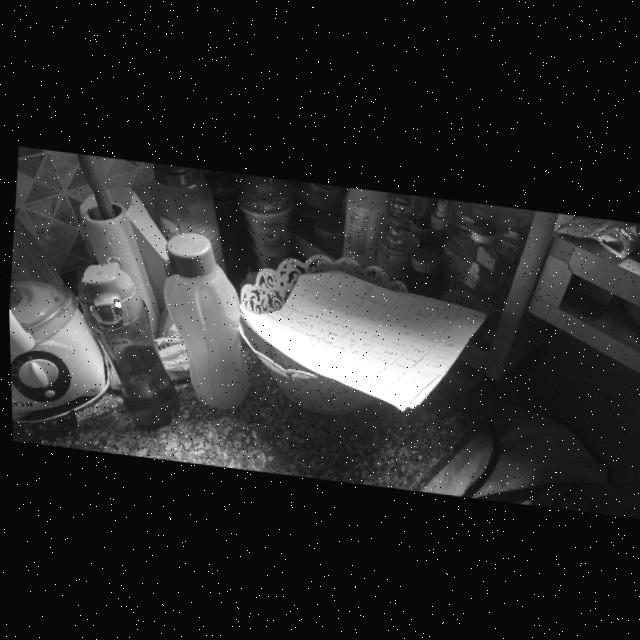document: (241, 270, 484, 409)
